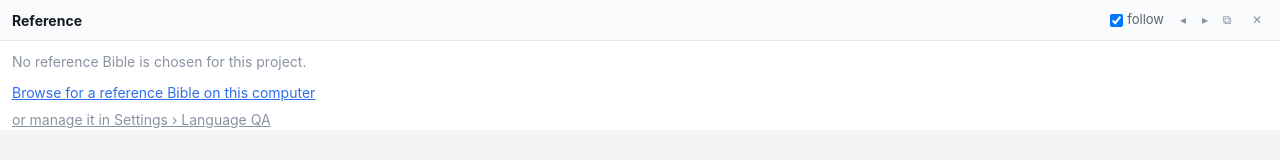
Test: ReferencePanel › with nothing chosen, Browse opens the folder picker, saves the folder for the project and reads it
The image size is (1280, 160).
Expected: the text "No reference Bible is chosen for this project." is shown, [12,53,306,70]
Click the button "Browse for a reference Bible on this computer" at (164, 92), box [12,82,1268,103]
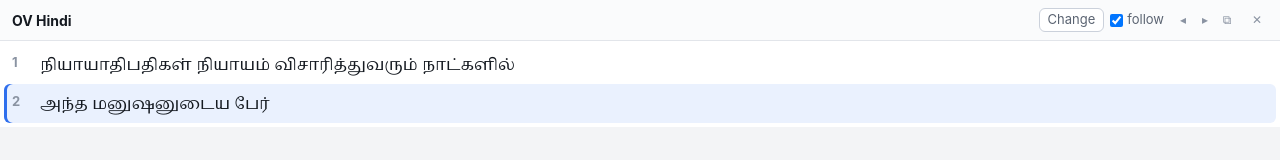
Expected: the heading "OV Hindi" is shown, [12,12,72,28]
